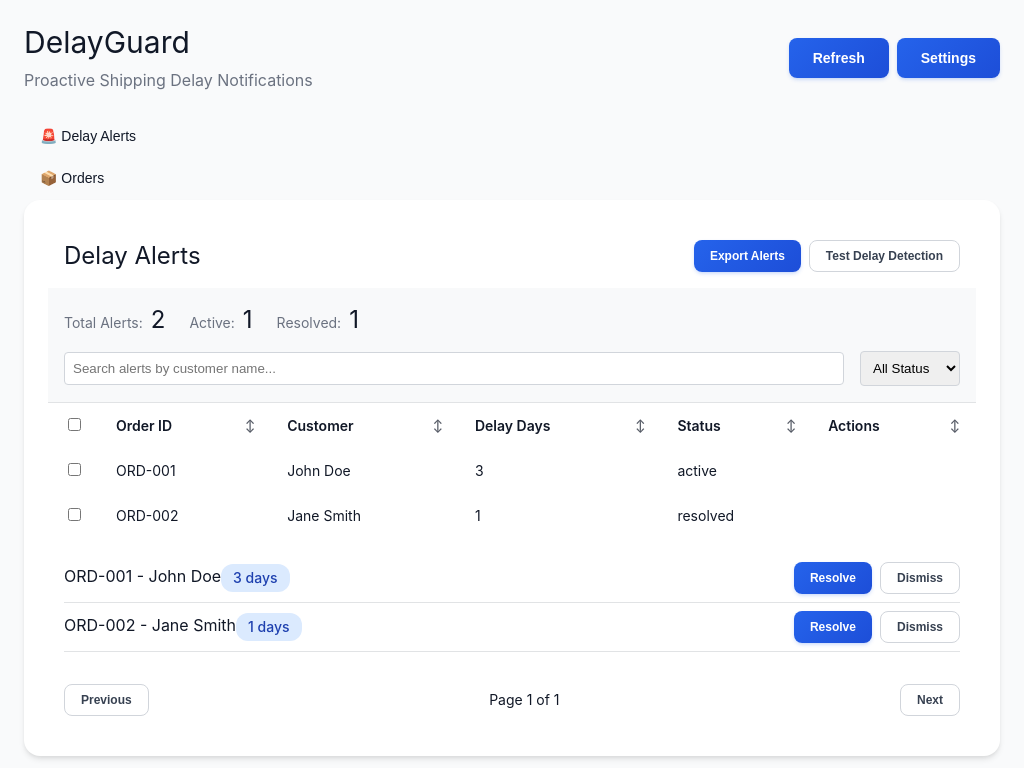
Scenario: MinimalApp › should handle order actions
The image size is (1024, 768).
Check: the heading "DelayGuard" is shown, box [24,24,190,60]
Note: Switch to orders tab
Click the tab with test id "tab-orders" at (72,179), box [24,158,120,200]
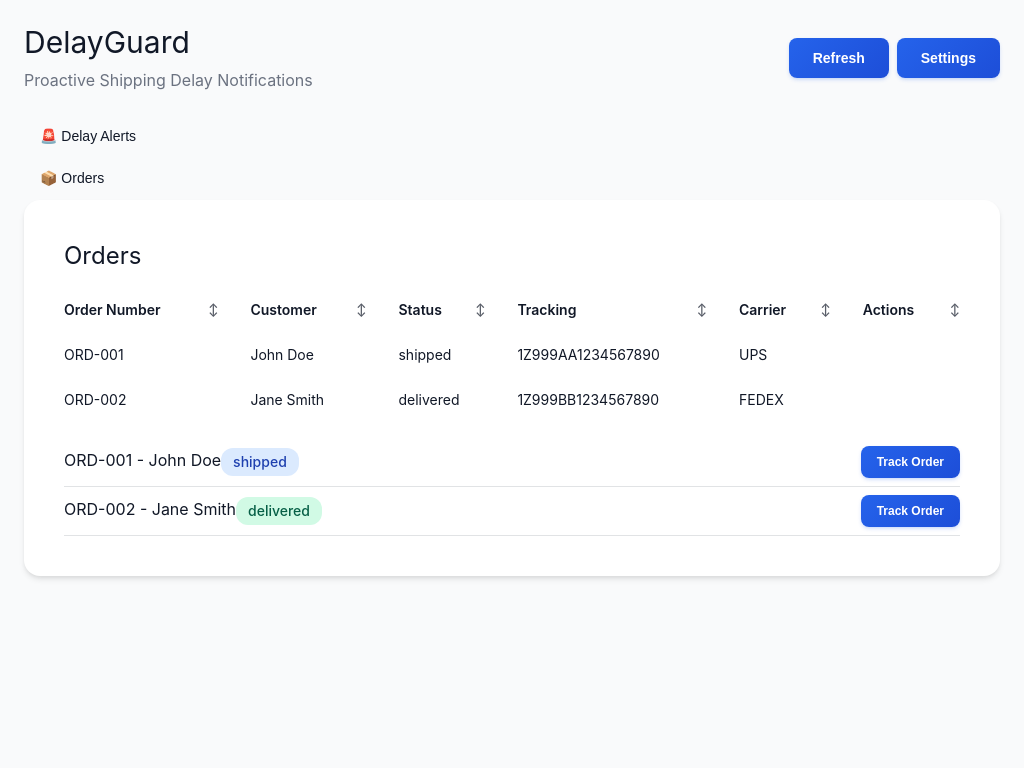
Check: the text "ORD-001" is shown, box [48,332,234,377]
Note: Track order
Click the 1st button "Track Order" at (910,462), box [861,446,960,478]
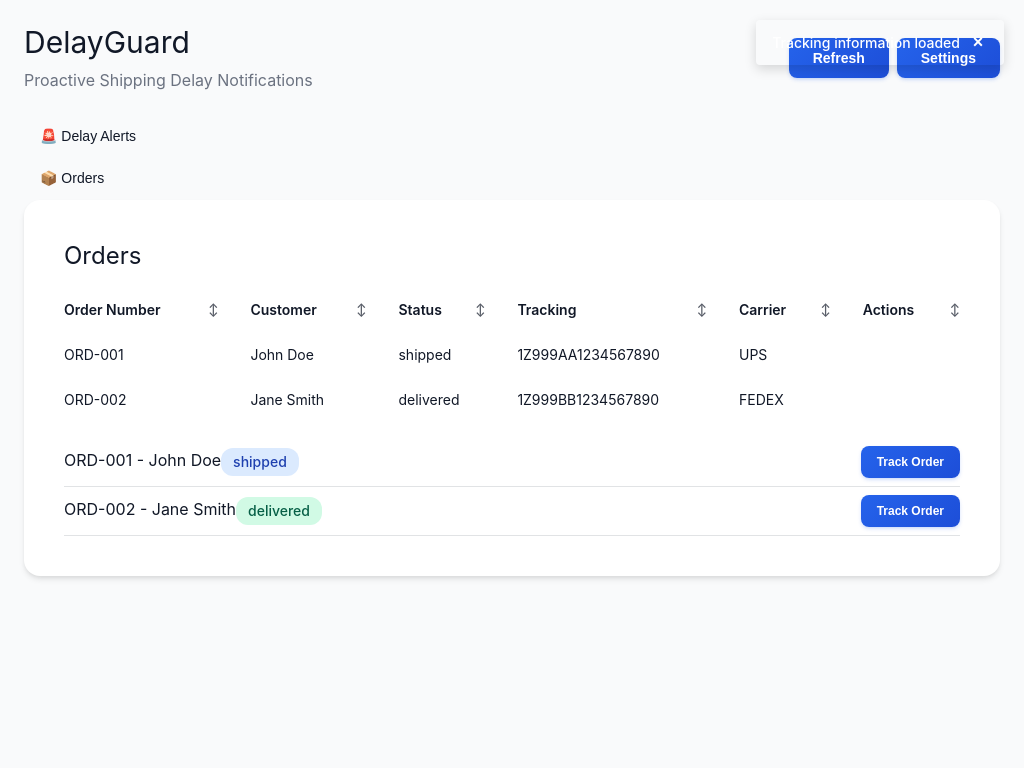
Check: the text "Tracking information loaded" is shown, box [772,32,960,53]
